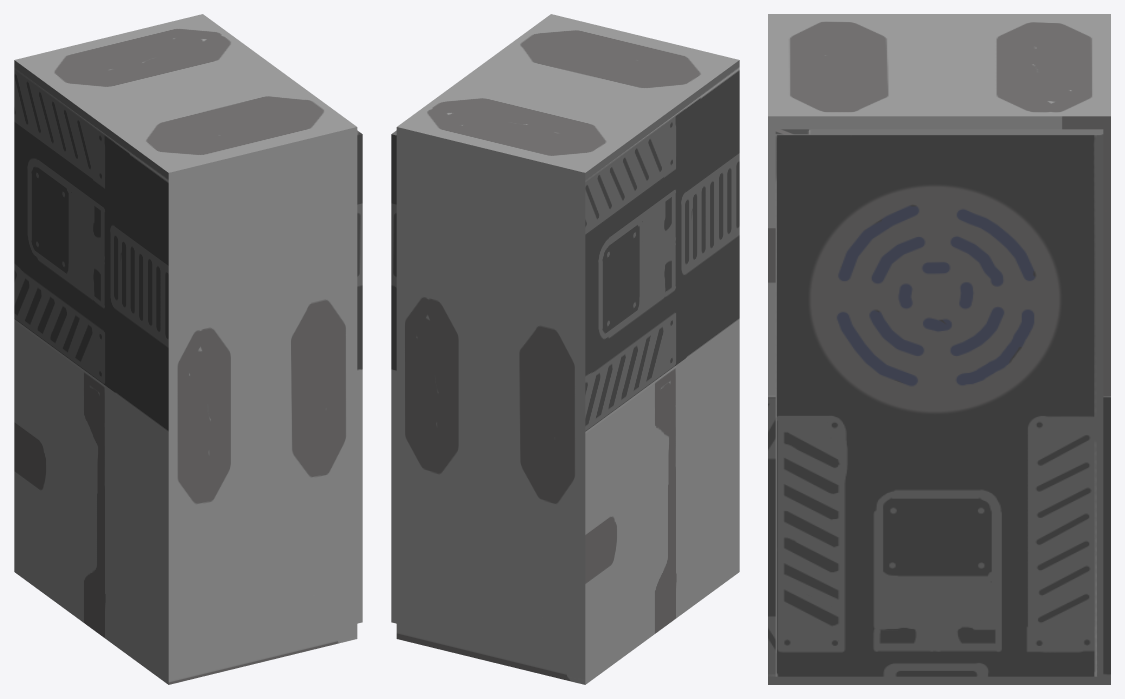
Rendered from TrimBox.fbx.
3 renders of one model, left to right at view 1: azimuth 30°, elevation 25°; view 2: azimuth 150°, elevation 25°; view 3: azimuth 270°, elevation 25°, orthographic. The views are drawn at different scales.
Visible parts, largest first — view 1: TrimBox; view 2: TrimBox; view 3: TrimBox.
Boxes of the visible parts, x1=… form: TrimBox: x1=14, y1=14, x2=362, y2=684; TrimBox: x1=391, y1=14, x2=739, y2=684; TrimBox: x1=768, y1=14, x2=1110, y2=684.
Bounding box in the file's own units: 52.1 × 129 × 70.54.
